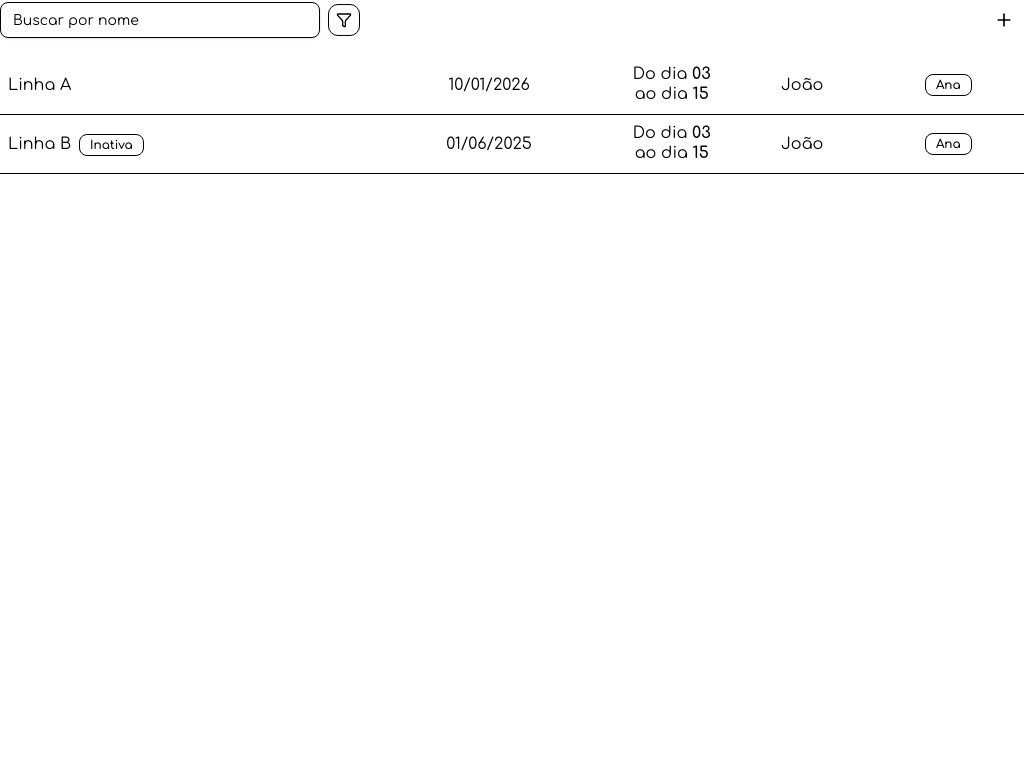
Test case: TeamManager › shows untill date as dd/mm/yyyy in edit modal
Step 1. Click the button "Linha B" → (512, 144), box x1=0 y1=114 x2=1023 y2=174
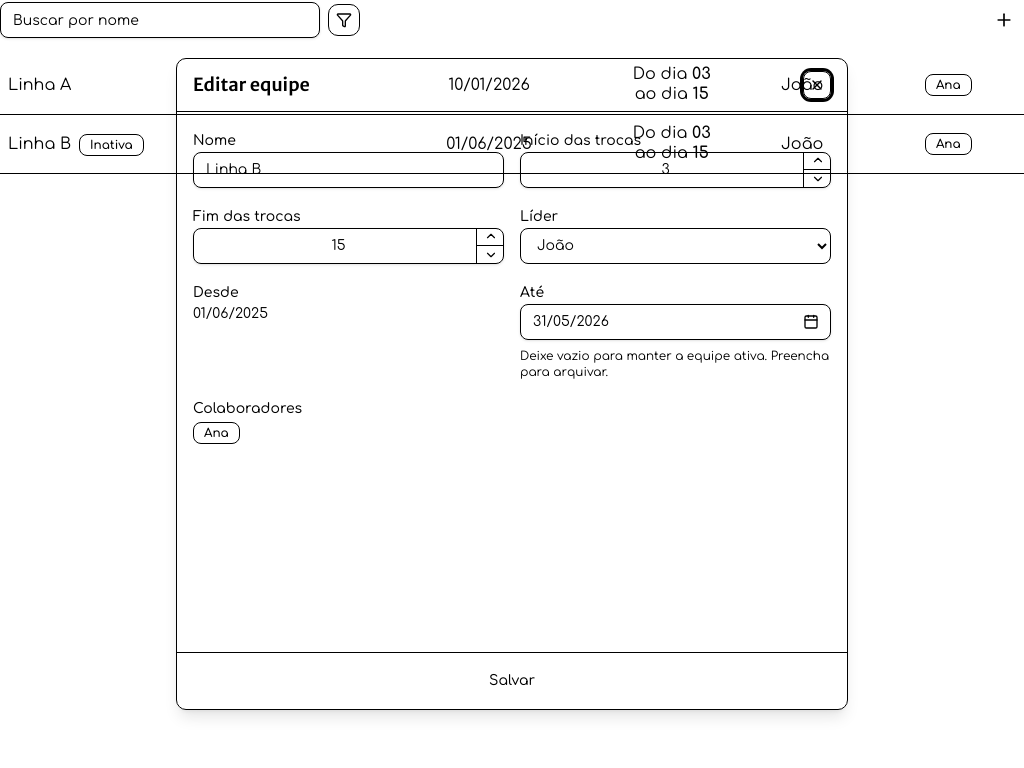
Result: the field labelled "Até" holds "31/05/2026" at x1=520 y1=304 x2=831 y2=340
